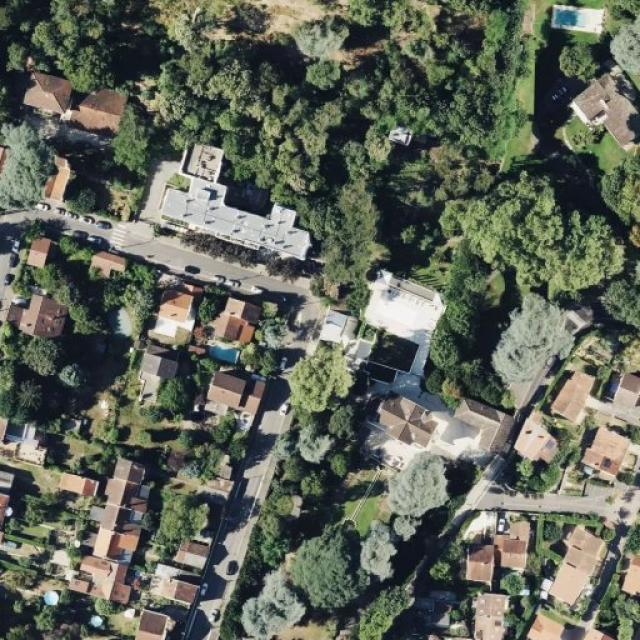ferme: (462, 394, 515, 454)
immeuble: (163, 144, 334, 274), (316, 296, 422, 391), (548, 526, 610, 608), (370, 391, 440, 451), (11, 283, 72, 338)
maison: (73, 76, 128, 133), (92, 492, 138, 552), (550, 368, 598, 425), (130, 342, 175, 402), (511, 414, 559, 468), (577, 427, 626, 477), (0, 405, 49, 454), (207, 305, 256, 353), (207, 371, 264, 412), (152, 284, 196, 336), (491, 519, 535, 570), (148, 564, 200, 607), (105, 452, 146, 502), (472, 587, 509, 640), (28, 75, 70, 111), (79, 546, 125, 576), (67, 568, 119, 594), (42, 152, 68, 197), (134, 608, 168, 640), (465, 546, 494, 583), (57, 470, 96, 494), (25, 234, 53, 266), (176, 542, 208, 568), (90, 254, 124, 274), (0, 108, 10, 158), (0, 450, 10, 482), (0, 477, 6, 517), (0, 398, 5, 432), (0, 517, 1, 538)
piscine: (198, 328, 250, 366), (550, 5, 609, 37), (80, 608, 108, 632), (37, 585, 61, 609)
villa: (540, 0, 640, 177)
